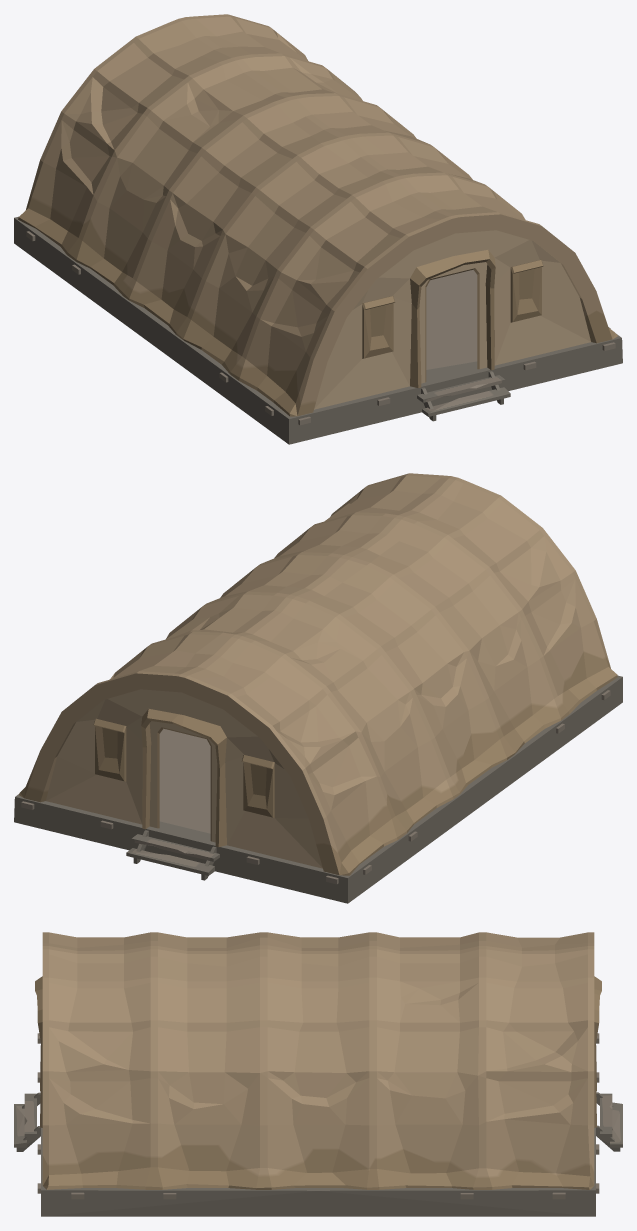
File: SM_Bld_Tent_01.glb
The picture shows the model from 3 angles, top to bottom: view 1: azimuth 30°, elevation 25°; view 2: azimuth 150°, elevation 25°; view 3: azimuth 270°, elevation 25°; orthographic projection.
Parts seen in each view (by area): view 1: SM_Bld_Tent_01; view 2: SM_Bld_Tent_01; view 3: SM_Bld_Tent_01.
Boxes of the visible parts, <box> form: SM_Bld_Tent_01: <box>14,14,622,444</box>; SM_Bld_Tent_01: <box>14,473,622,903</box>; SM_Bld_Tent_01: <box>14,932,622,1216</box>.
Size of the model in its own units: 7.8 by 4.07 by 12.03.
1 material, 1 textured.
